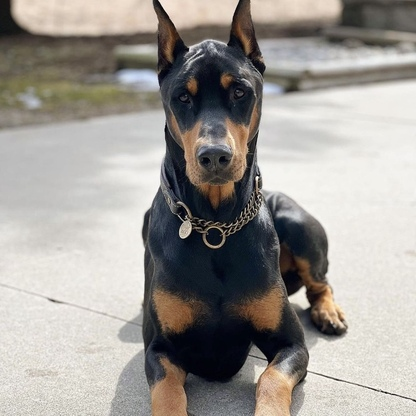doberman: (127, 5, 356, 413)
